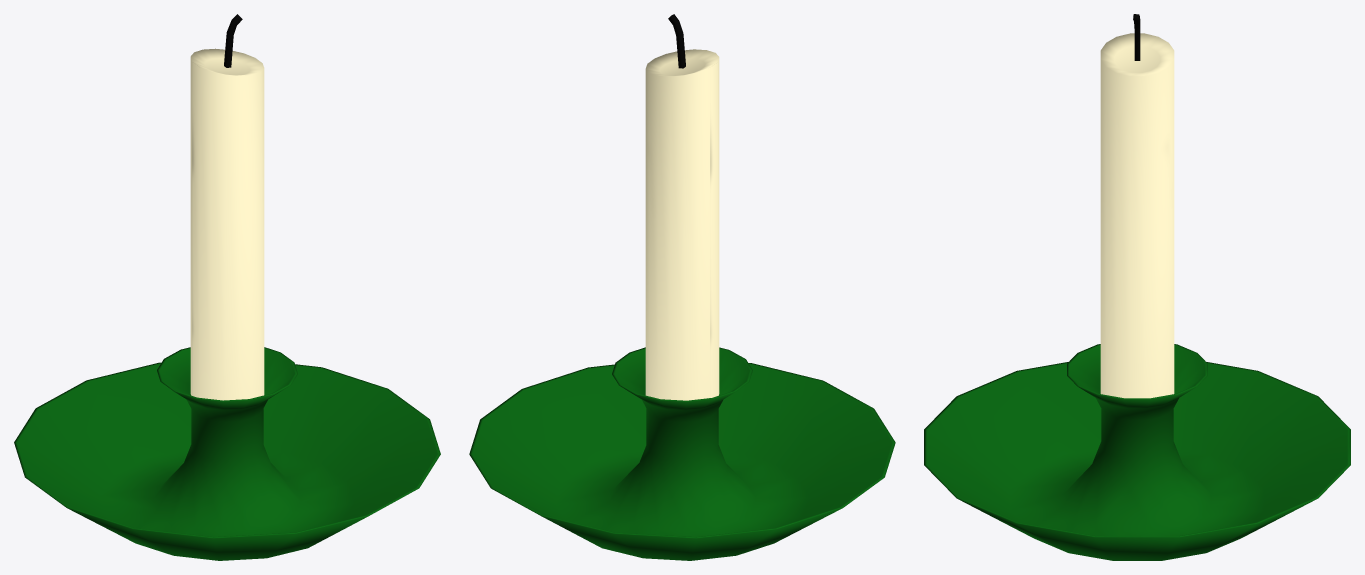
The model's file is uploads_files_2750826_untitled.fbx.
3 views of the same model, side by side, from view 1: azimuth 30°, elevation 25°; view 2: azimuth 150°, elevation 25°; view 3: azimuth 270°, elevation 25° (orthographic).
Parts seen in each view (by area): view 1: candle_LOD0; view 2: candle_LOD0; view 3: candle_LOD0.
Part boxes in pixels (x1,y1,x2,y2): candle_LOD0: (14,14,440,560); candle_LOD0: (469,14,895,560); candle_LOD0: (924,14,1350,560).
Size of what is drawn, in the model's own units: 344 by 445 by 344.
